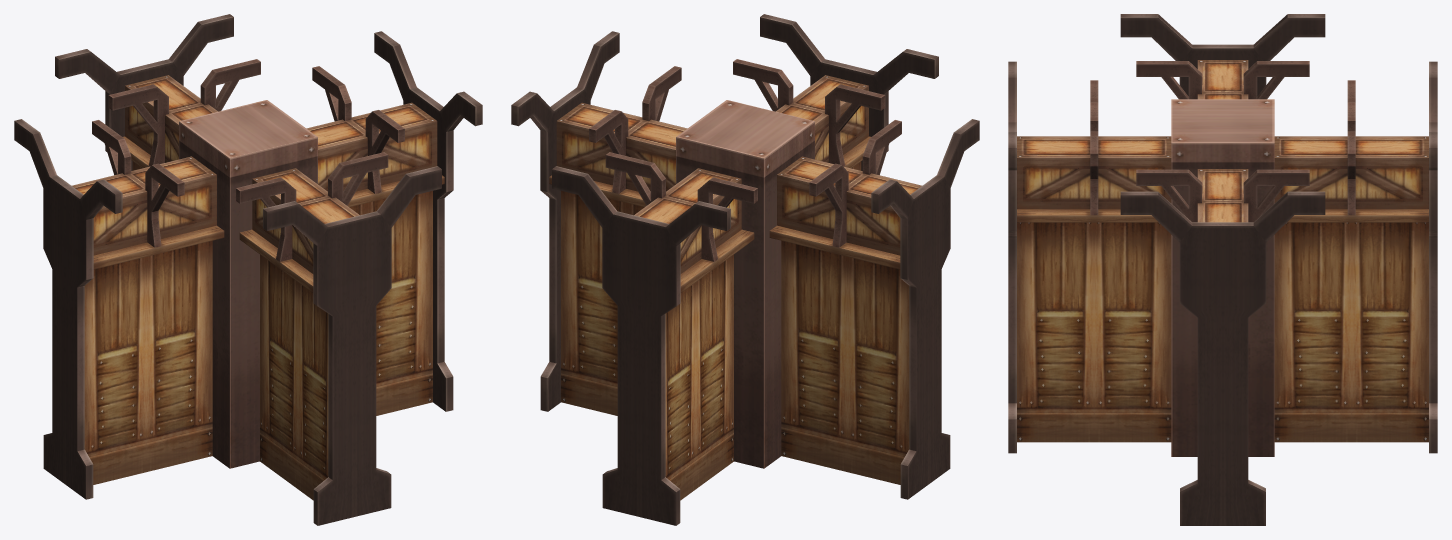
File: a_SWGuwall02d.glb
The picture shows the model from 3 angles, left to right: view 1: azimuth 30°, elevation 25°; view 2: azimuth 150°, elevation 25°; view 3: azimuth 270°, elevation 25°; orthographic projection.
Visible parts, largest first — view 1: a_SWGuwall02d; view 2: a_SWGuwall02d; view 3: a_SWGuwall02d.
Boxes of the visible parts, x1,y1,x2,y2 form: a_SWGuwall02d: (14,14,482,525); a_SWGuwall02d: (511,14,979,525); a_SWGuwall02d: (1008,14,1437,525).
Bounding box in the file's own units: 5 × 4.25 × 5.
2 materials, 2 textured.
